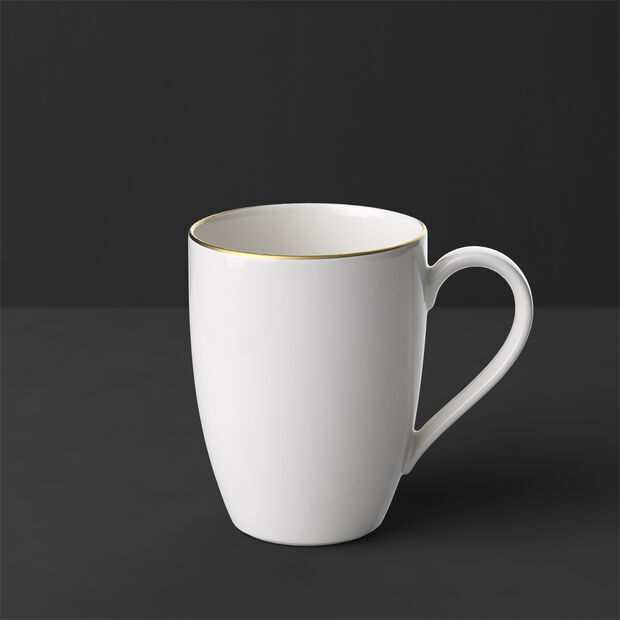cup: (174, 185, 538, 552)
